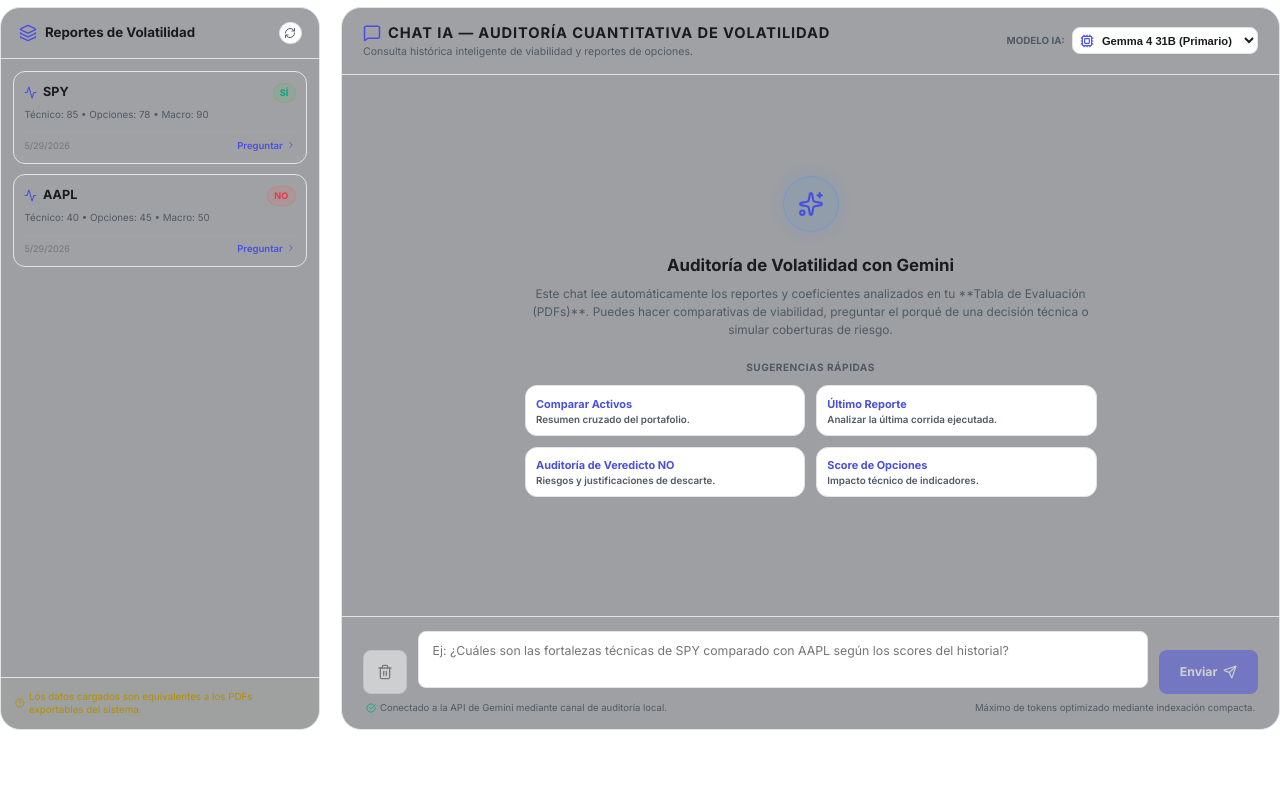
Test: AIChatPage › switches to the fallback model and sends request with proper model key
Select the fallback model from the dropdown
Select "Gemma 4 26B (Fallback)" in the dropdown at x=1165, y=41, box [1072,27,1258,54]
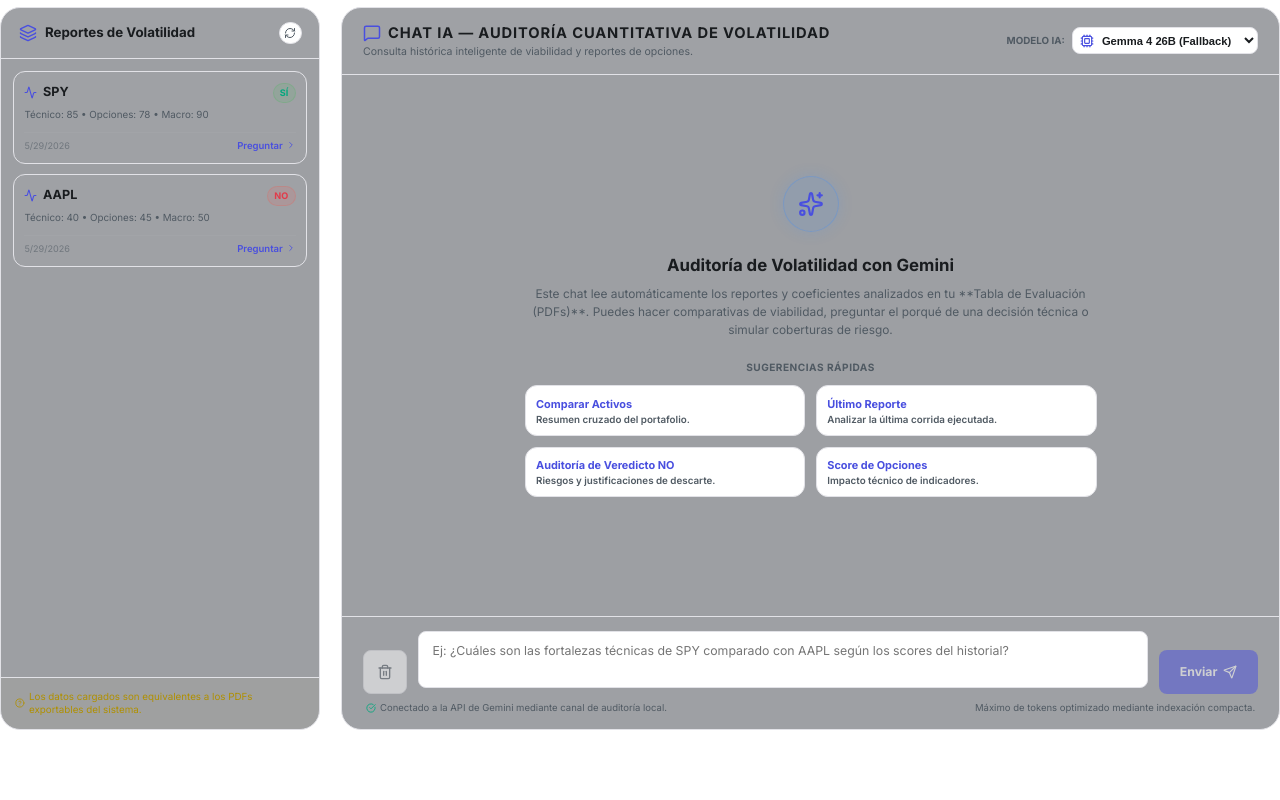
Replace the text in the text box with placeholder "Ej:" with "¿Cuáles son los riesgos?" at x=783, y=660, box [418,631,1148,688]
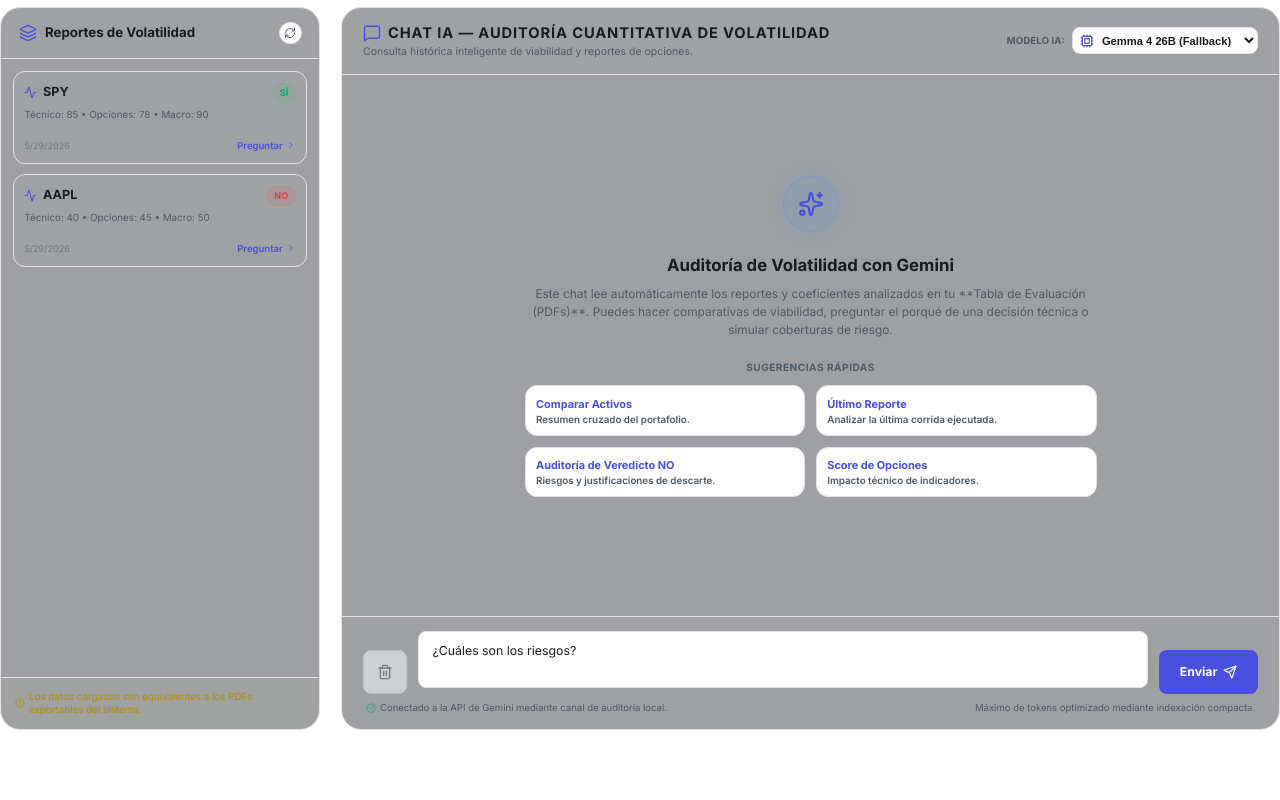
Click the button "Enviar".
click(1208, 672)  # box [1159,650,1258,694]
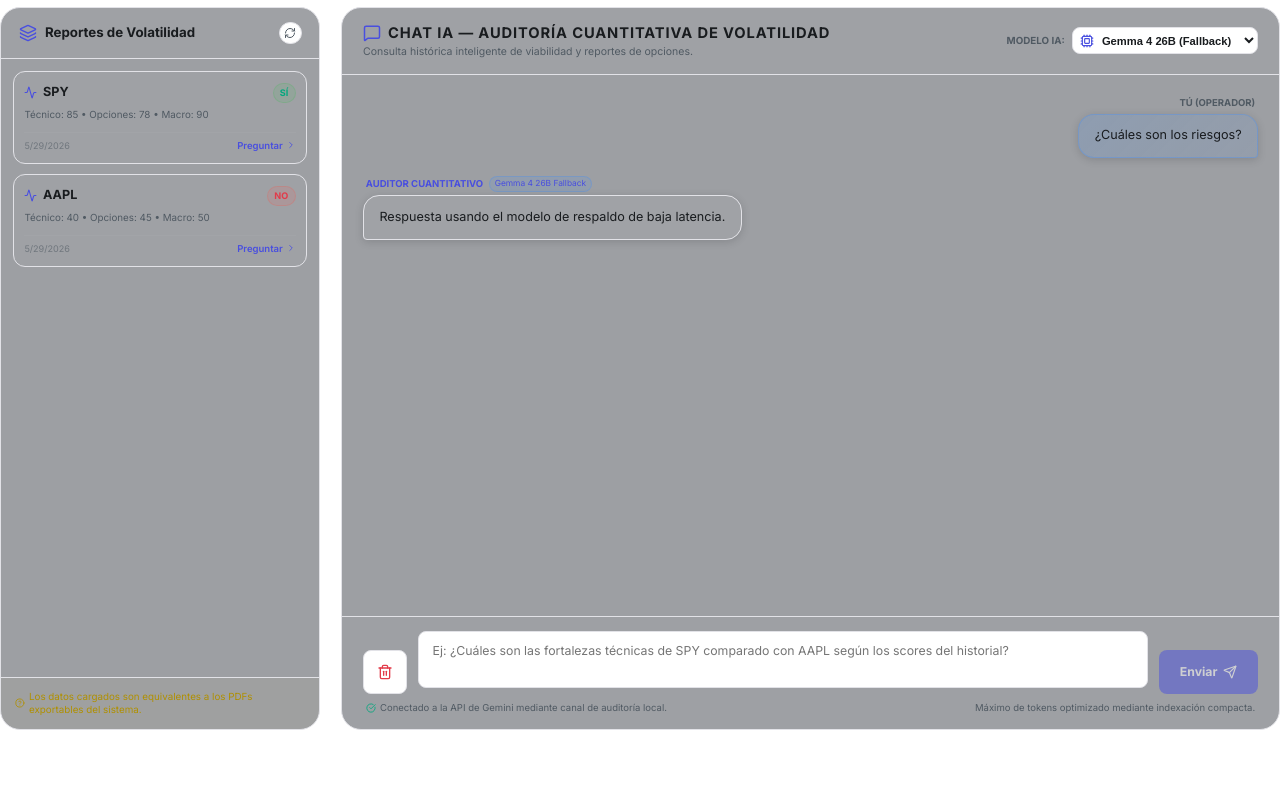
Expected: the text "Respuesta usando el modelo de respaldo de baja latencia." is shown, [363,195,742,240]
